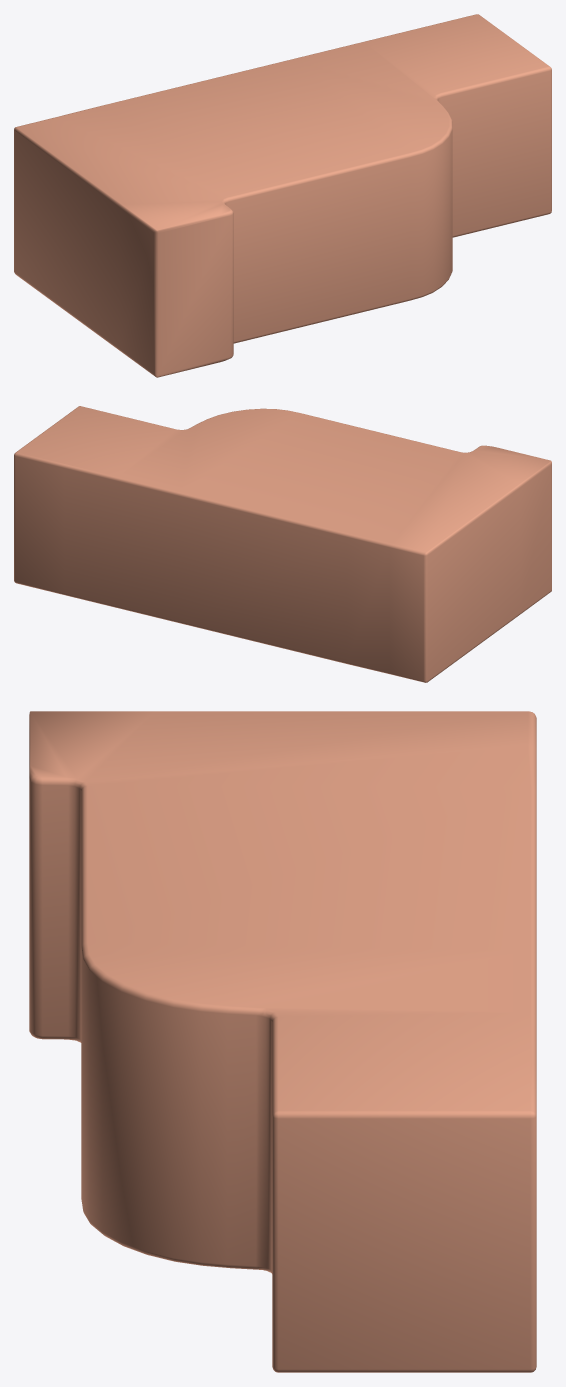
The model's file is island_lv10_1.fbx.
3 views of the same model, one above another, from view 1: azimuth 30°, elevation 25°; view 2: azimuth 150°, elevation 25°; view 3: azimuth 270°, elevation 25° (orthographic). The views are drawn at different scales.
Visible parts, largest first — view 1: island_lv10_1; view 2: island_lv10_1; view 3: island_lv10_1.
Part boxes in pixels (bbox=[...]): island_lv10_1: bbox=[14, 14, 551, 377]; island_lv10_1: bbox=[14, 406, 551, 682]; island_lv10_1: bbox=[29, 711, 536, 1372].
Bounding box in the file's own units: 1654 × 500 × 879.
